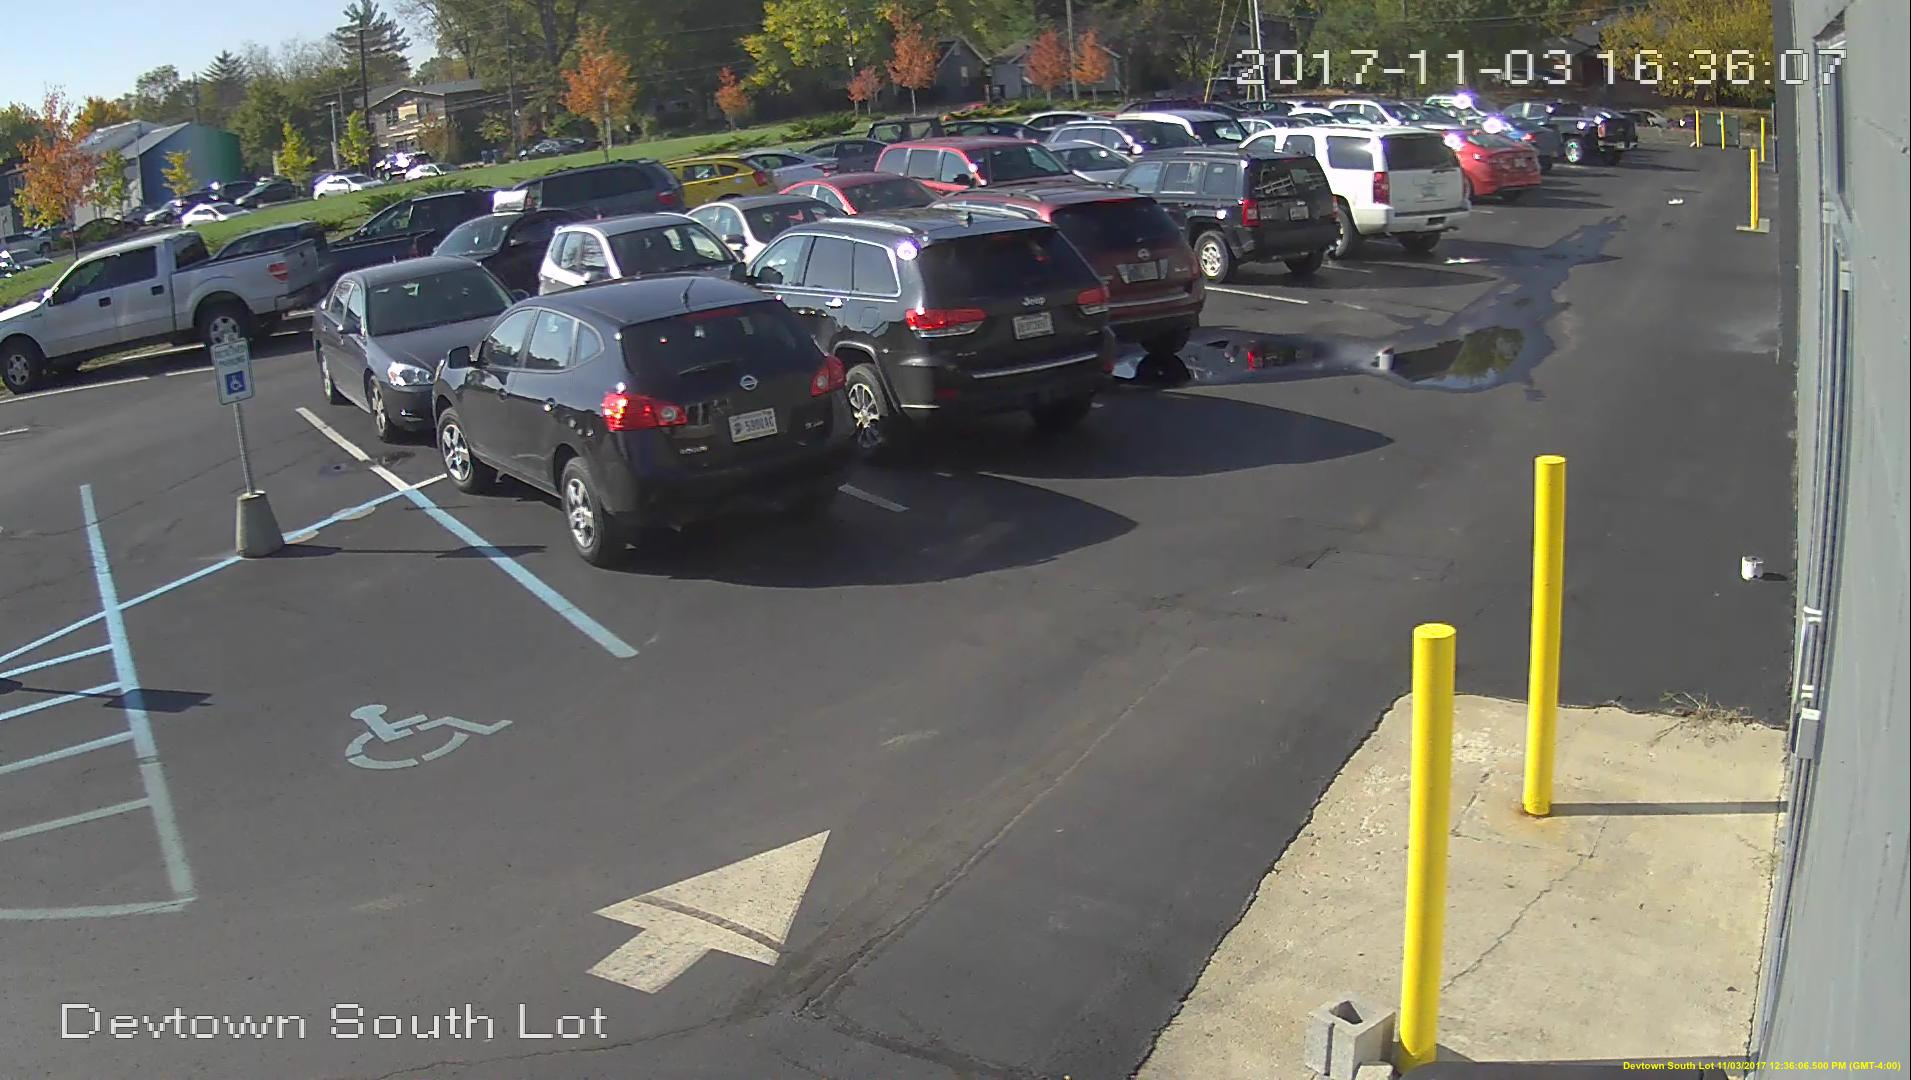jimmy_johns: (487, 192, 538, 217)
